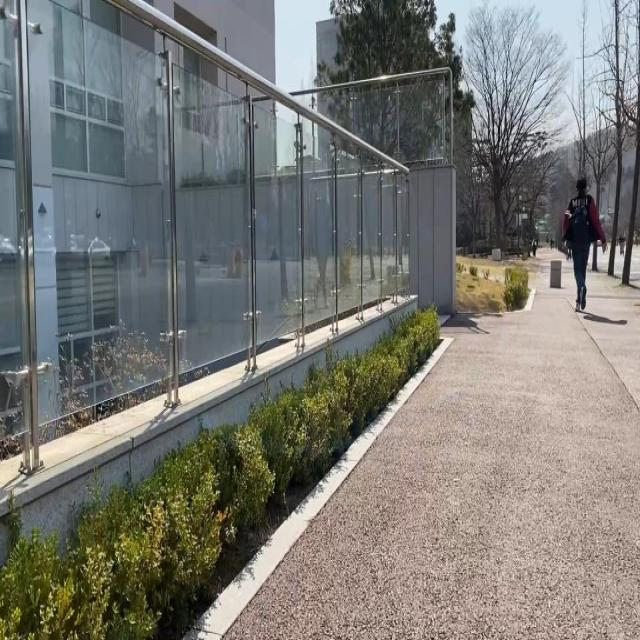sidewalk: (226, 260, 640, 639)
